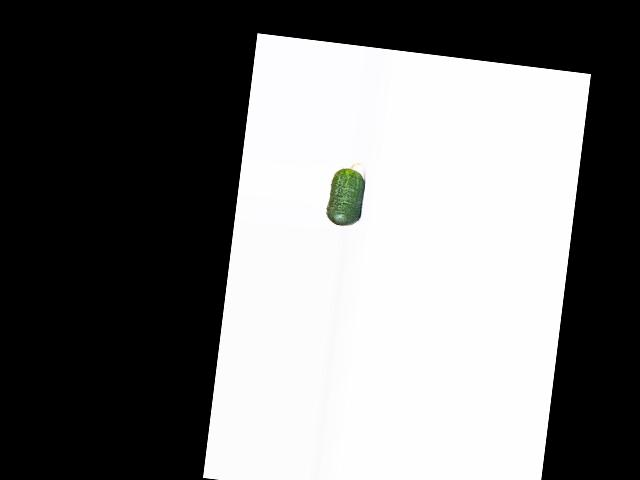cucumber: (324, 159, 367, 227)
